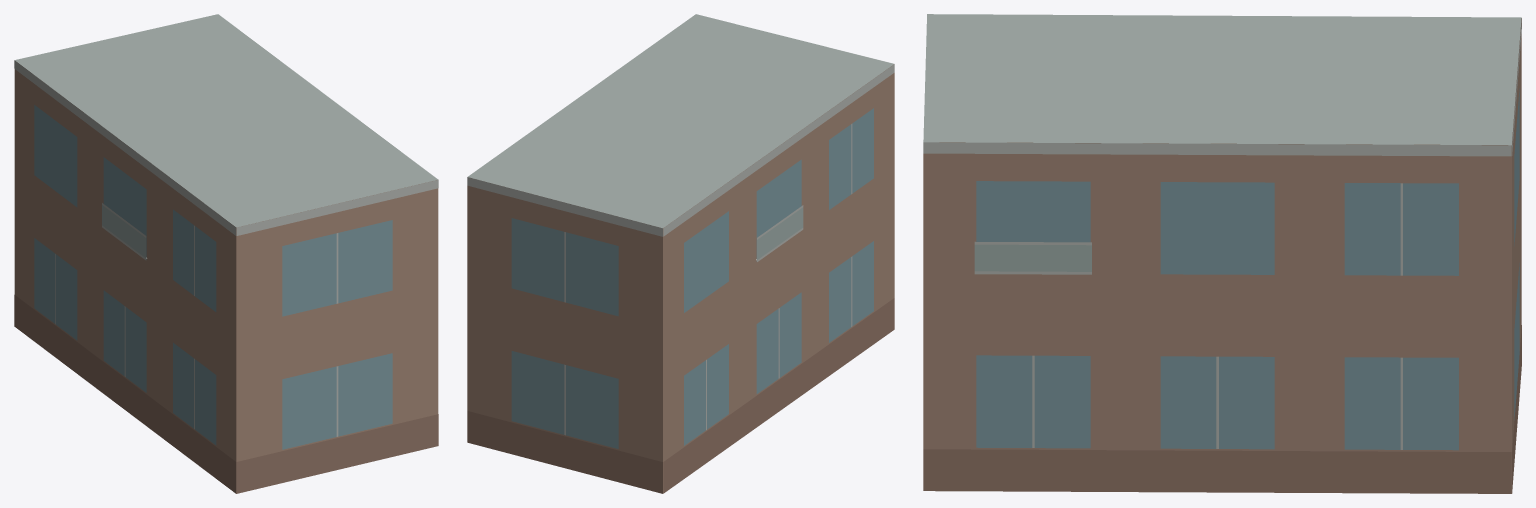
Rendered from survey-upis-32552439.glb.
3 renders of one model, left to right at view 1: azimuth 30°, elevation 25°; view 2: azimuth 150°, elevation 25°; view 3: azimuth 270°, elevation 25°, orthographic. The views are drawn at different scales.
Parts seen in each view (by area): view 1: survey-upis-32552439.tmp; view 2: survey-upis-32552439.tmp; view 3: survey-upis-32552439.tmp.
Part boxes in pixels (x1,y1,x2,y2): survey-upis-32552439.tmp: [14, 14, 438, 493]; survey-upis-32552439.tmp: [467, 14, 894, 493]; survey-upis-32552439.tmp: [923, 14, 1521, 493].
Size of the model in its own units: 6.06 by 7.5 by 11.67.
